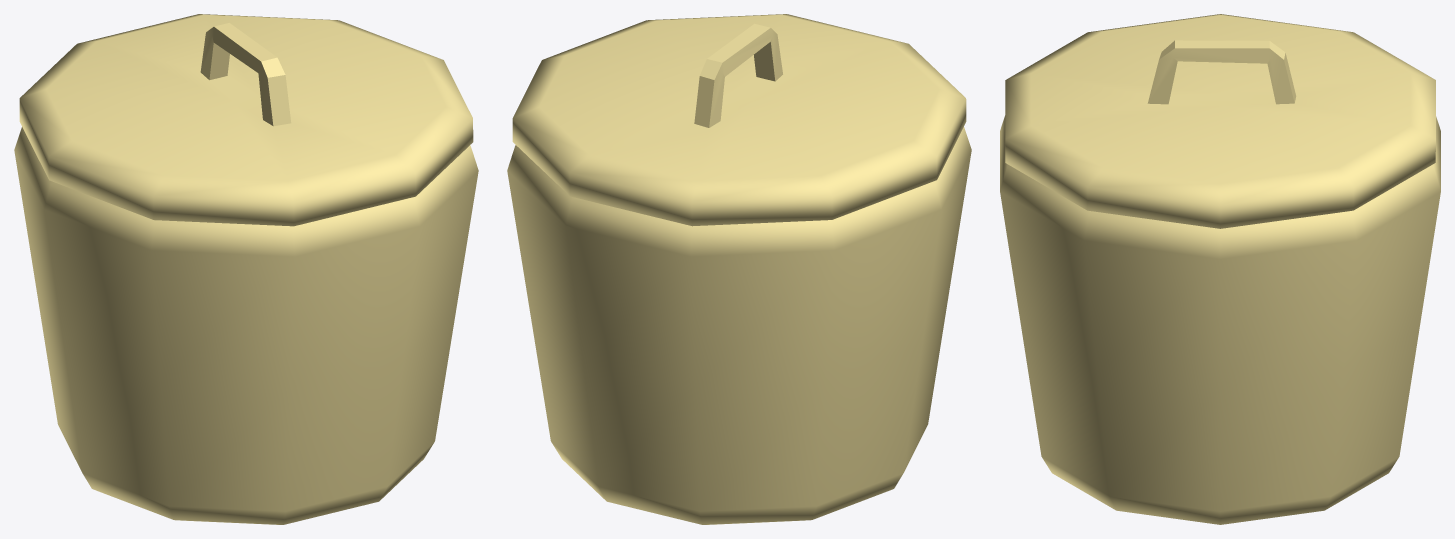
File: garbage_can_01.fbx
3 views of the same model, side by side, from view 1: azimuth 30°, elevation 25°; view 2: azimuth 150°, elevation 25°; view 3: azimuth 270°, elevation 25° (orthographic).
Parts seen in each view (by area): view 1: polySurface1308, polySurface29; view 2: polySurface1308, polySurface29; view 3: polySurface1308, polySurface29.
Boxes of the visible parts, x1=… form: polySurface1308: x1=14, y1=127, x2=478, y2=524; polySurface29: x1=19, y1=14, x2=473, y2=226; polySurface1308: x1=507, y1=127, x2=971, y2=524; polySurface29: x1=512, y1=14, x2=966, y2=226; polySurface1308: x1=1000, y1=115, x2=1440, y2=524; polySurface29: x1=1005, y1=14, x2=1435, y2=228.
Size of the model in its own units: 131 by 129 by 124.
